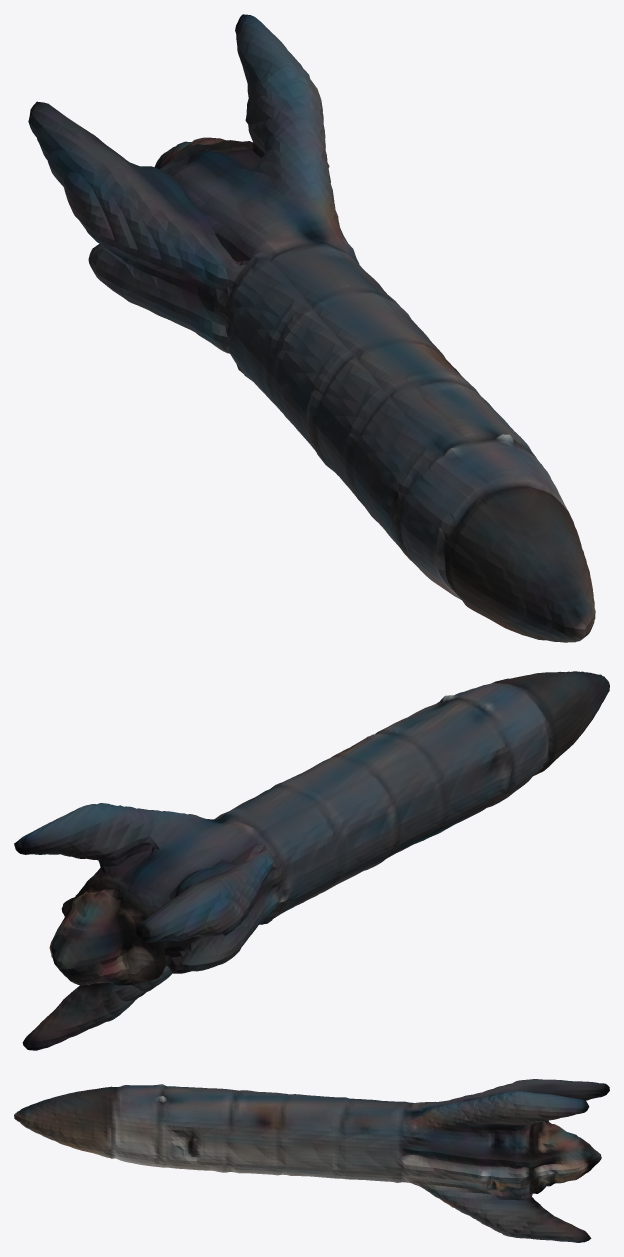
3 views of the same model, one above another, from view 1: azimuth 30°, elevation 25°; view 2: azimuth 150°, elevation 25°; view 3: azimuth 270°, elevation 25° (orthographic). The views are drawn at different scales.
Size of the model in its own units: 0.2583 by 0.2602 by 0.9537.
